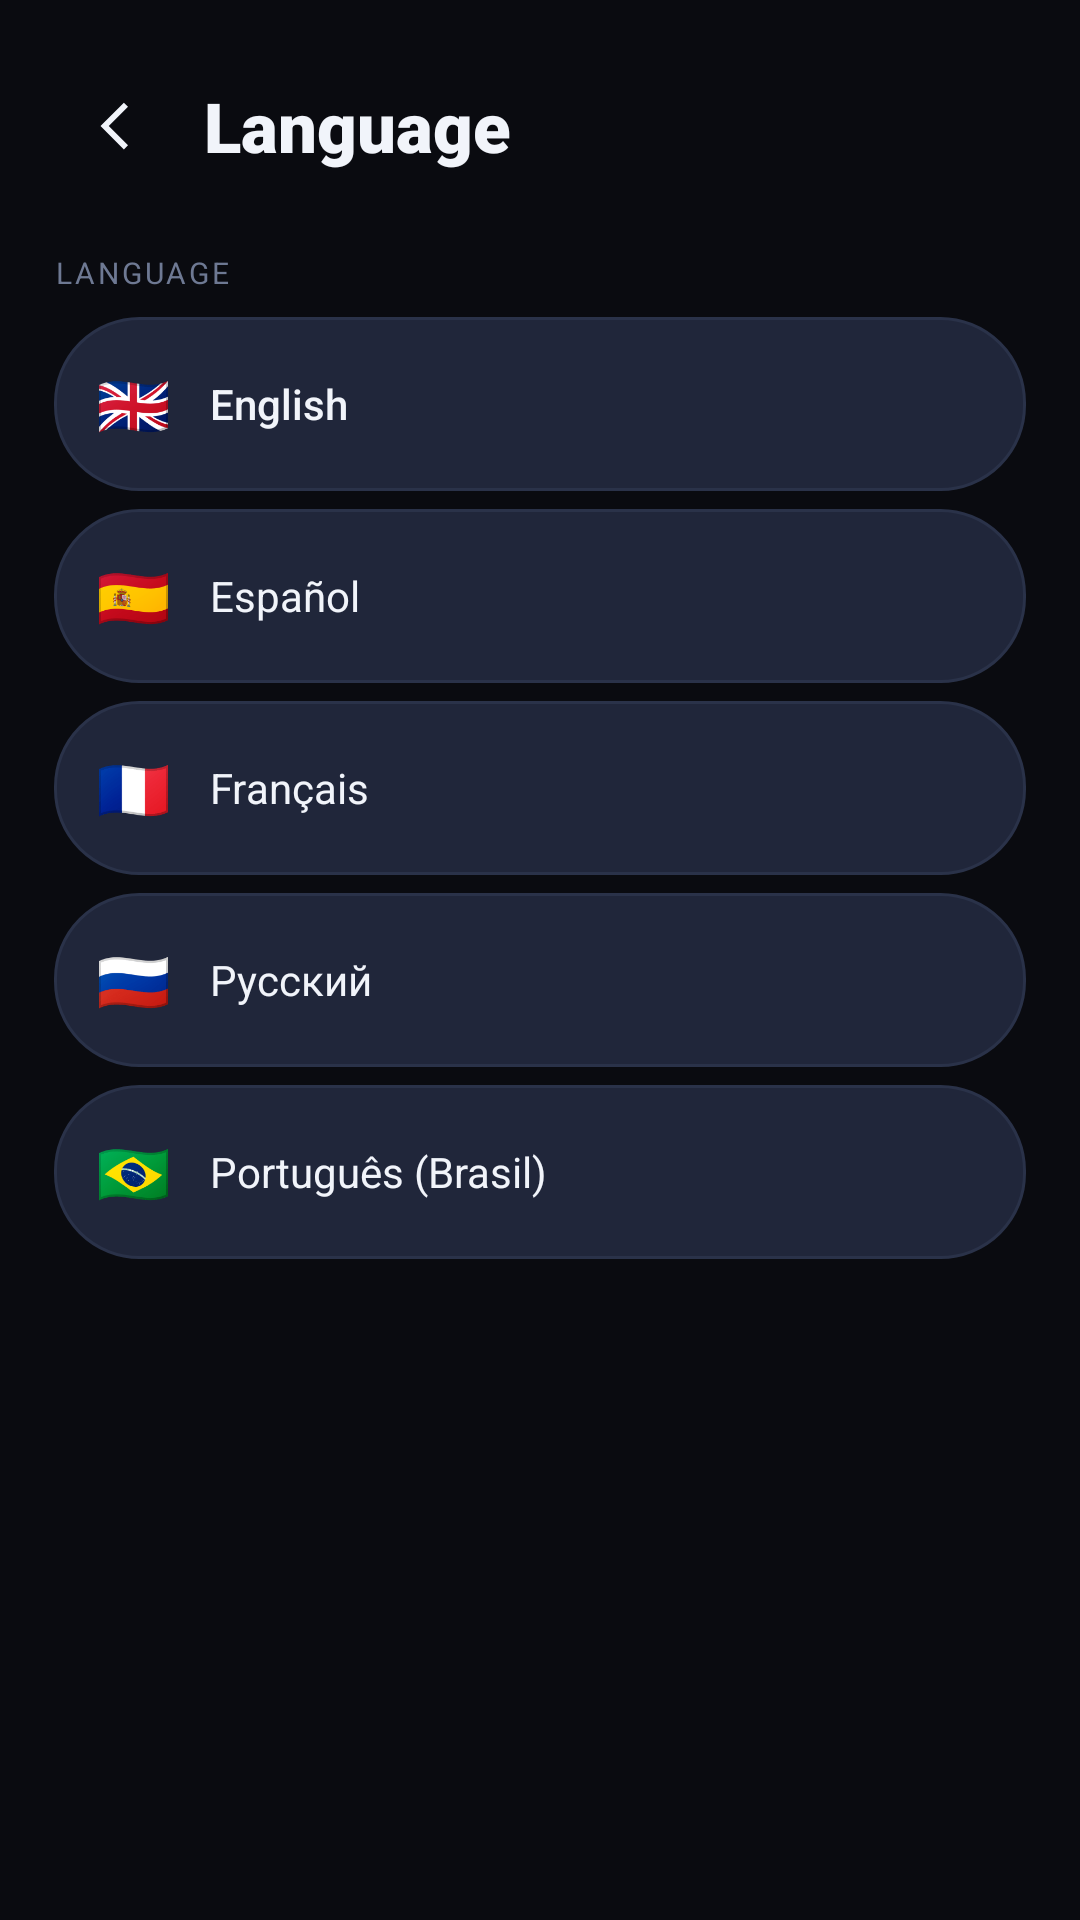

Icons on this 1080px x 1920px Android screen, each with its box as (left=x1, top=y1, right=x2, bottom=y2):
back: (left=100, top=103, right=128, bottom=150)
